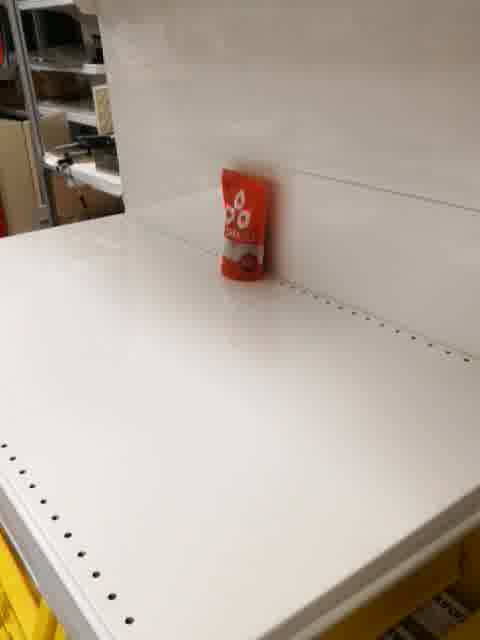whitechia: (218, 165, 271, 283)
